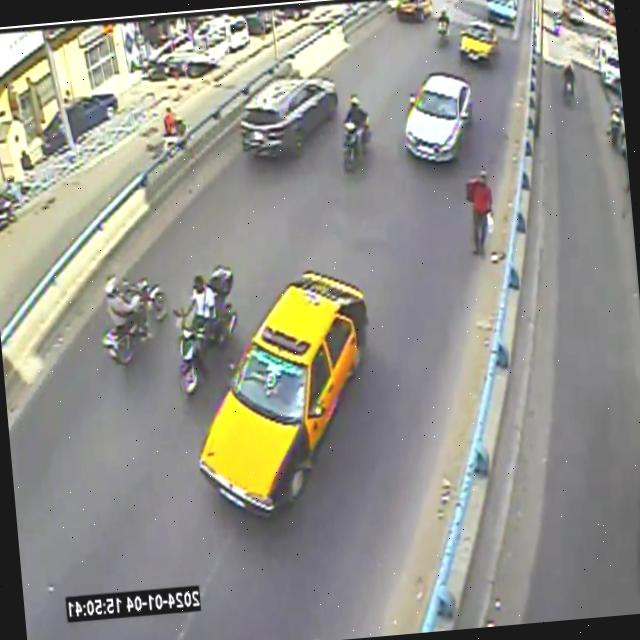car: (200, 270, 368, 512), (241, 77, 339, 155), (405, 72, 471, 161), (461, 21, 497, 59), (486, 0, 518, 25)
